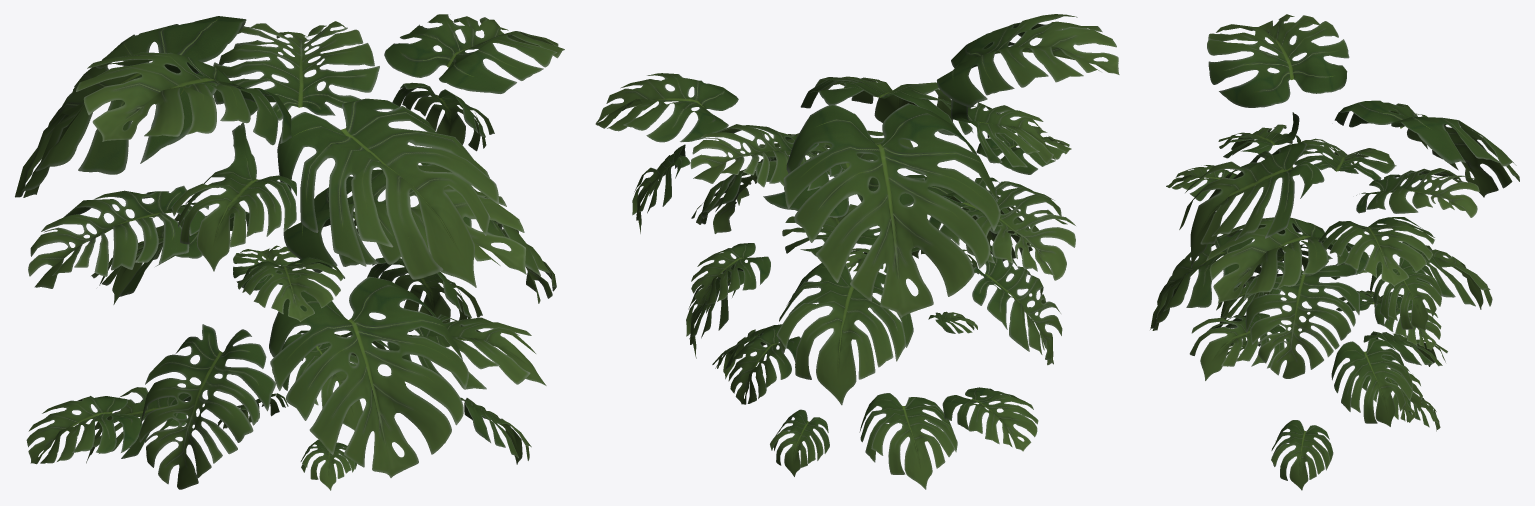
Rendered from plant_leaves.glb.
The picture shows the model from 3 angles, left to right: view 1: azimuth 30°, elevation 25°; view 2: azimuth 150°, elevation 25°; view 3: azimuth 270°, elevation 25°; orthographic projection. The views are drawn at different scales.
Visible parts, largest first — view 1: Leaves_Mat.1_0; view 2: Leaves_Mat.1_0; view 3: Leaves_Mat.1_0.
Part boxes in pixels (x1,y1,x2,y2): Leaves_Mat.1_0: (15, 14, 564, 490); Leaves_Mat.1_0: (595, 14, 1119, 489); Leaves_Mat.1_0: (1150, 14, 1519, 490).
Bounding box in the file's own units: 0.9043 × 0.7946 × 0.783.
1 material, 1 textured.
